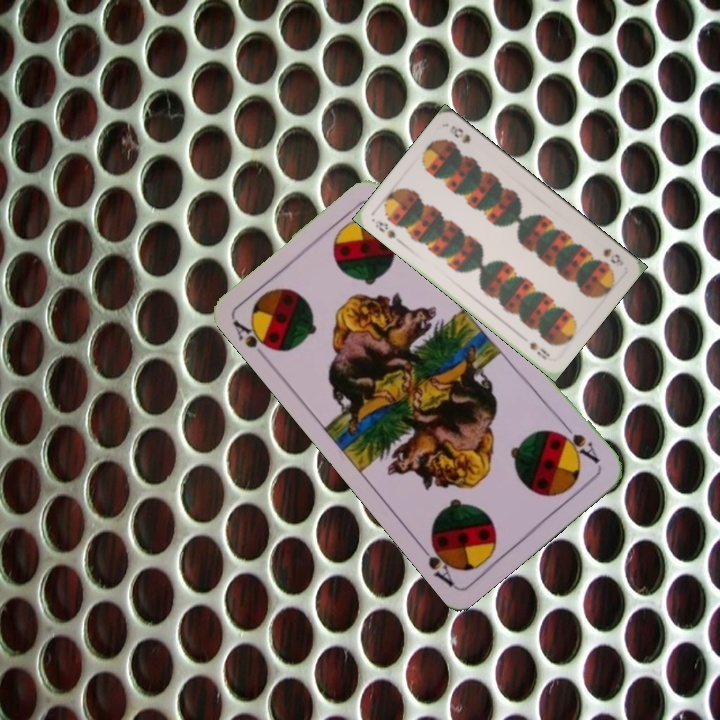S8: (371, 216, 398, 241), (599, 244, 623, 267)
SA: (228, 313, 281, 365), (553, 419, 602, 467)
